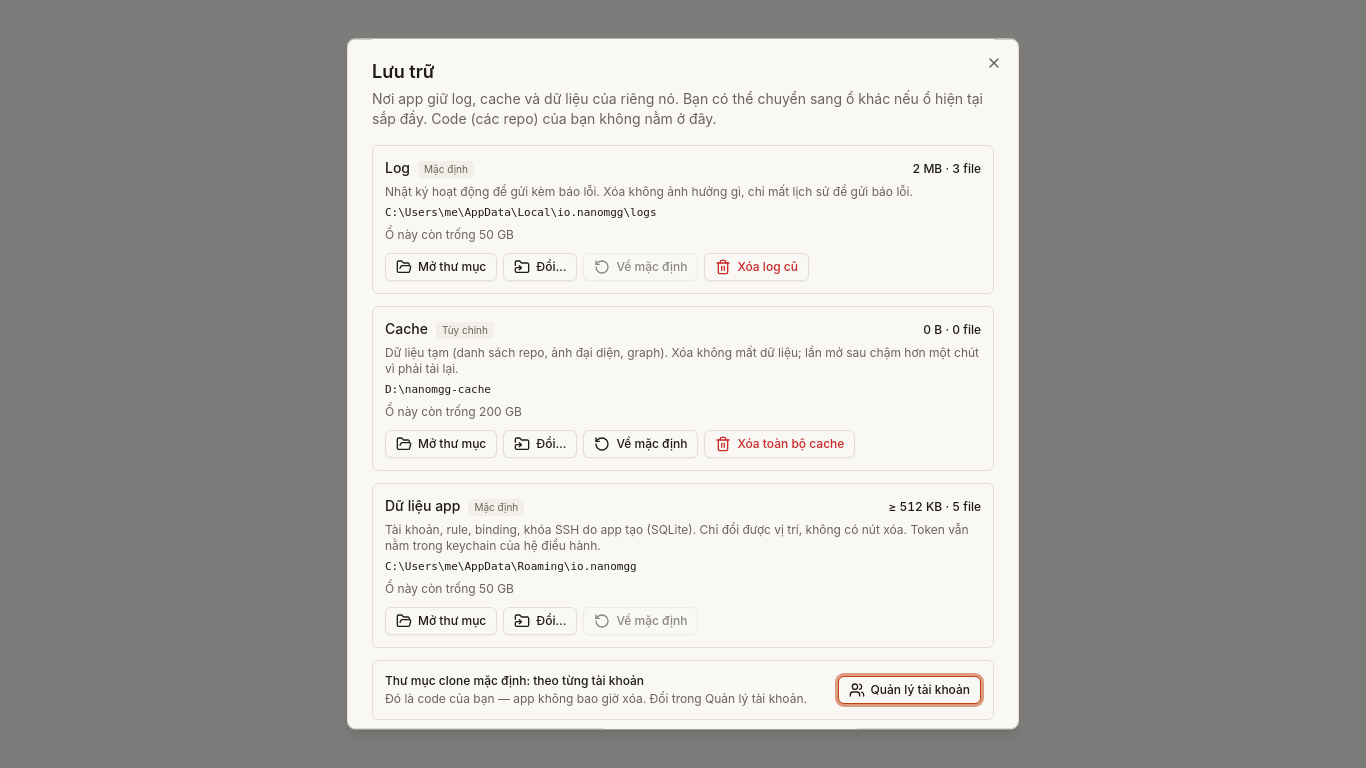
Test case: Storage dialog › goes back to the default with the default path
This screenshot has width=1366, height=768.
Click the button "Về mặc định" below "Ổ này còn trống 200 GB".
click(641, 444)  # box [583, 430, 698, 458]
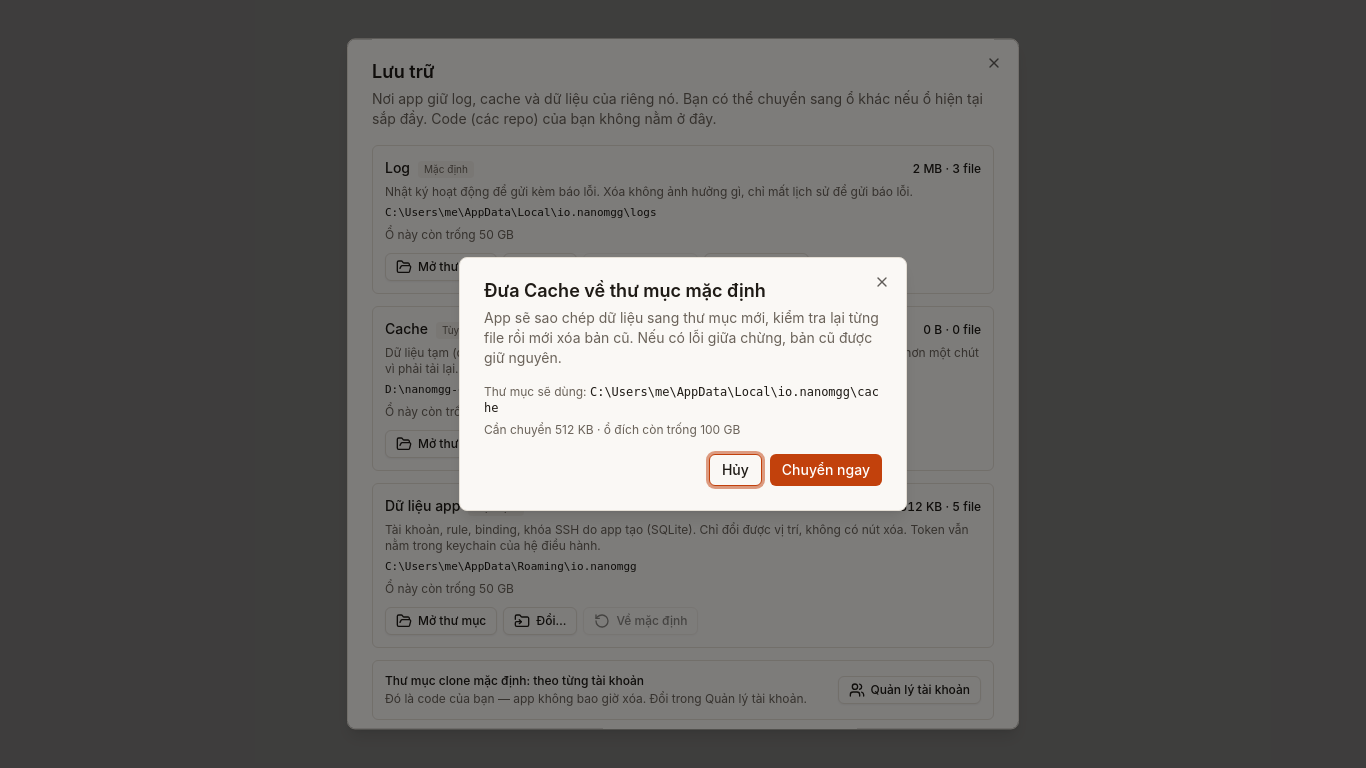
Click the button "Chuyển ngay".
click(826, 470)  # box [770, 454, 882, 486]
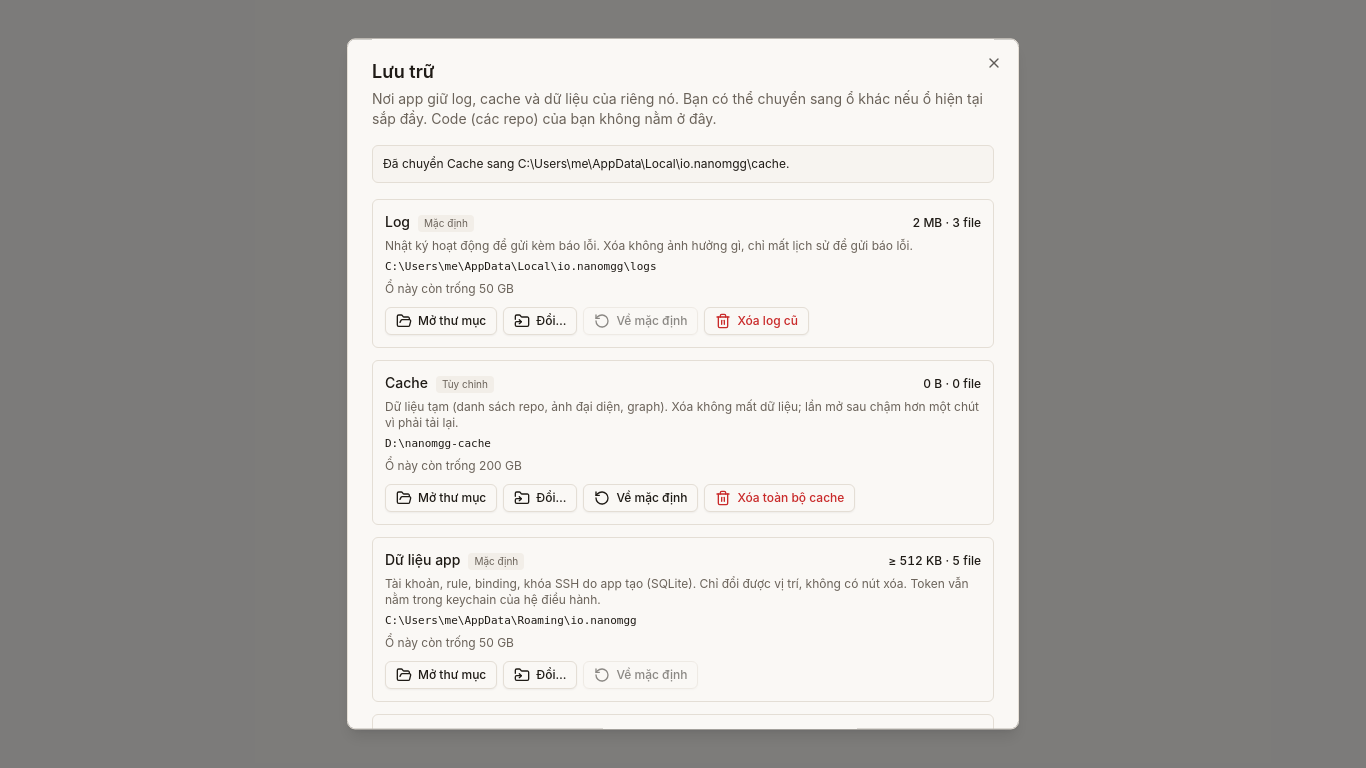
Result: the text "Đã chuyển Cache sang" is shown at [383, 156, 789, 171]
